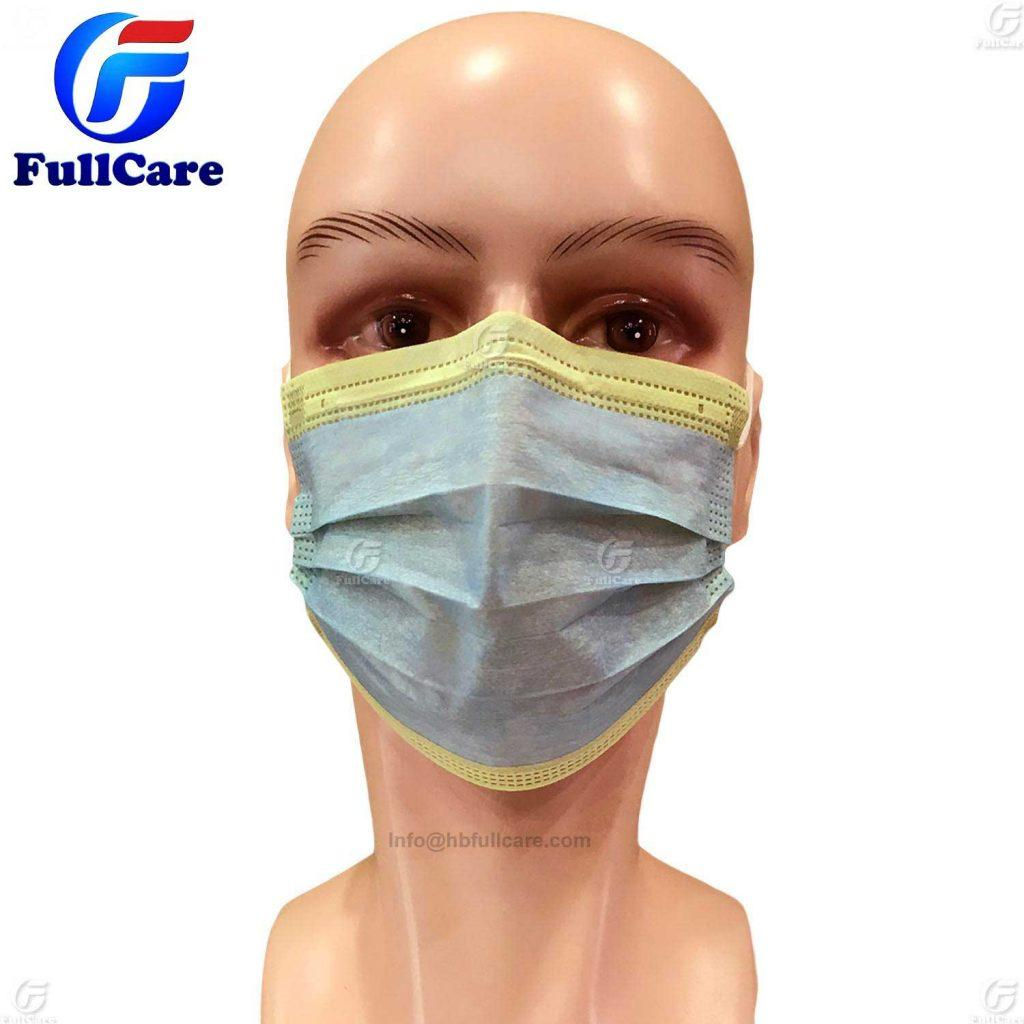Wearing Mask: (251, 0, 950, 822)
